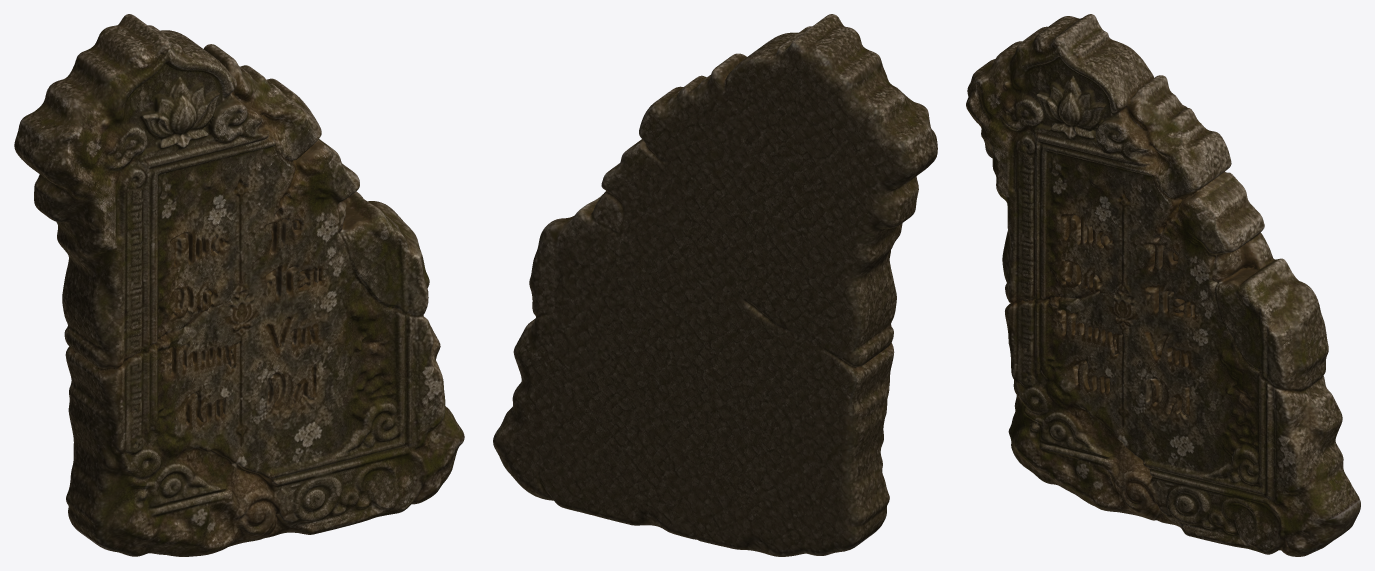
The model's file is Meshy_AI_Ancient_Cracked_Tombs_1019103022_texture.fbx.
The picture shows the model from 3 angles, left to right: view 1: azimuth 30°, elevation 25°; view 2: azimuth 150°, elevation 25°; view 3: azimuth 330°, elevation 25°; orthographic projection. The views are drawn at different scales.
Visible parts, largest first — view 1: Mesh_0; view 2: Mesh_0; view 3: Mesh_0.
Boxes of the visible parts, bbox=[...] form: Mesh_0: bbox=[14, 14, 464, 556]; Mesh_0: bbox=[493, 14, 937, 556]; Mesh_0: bbox=[966, 14, 1360, 556].
Size of the model in its own units: 161 by 190 by 28.95.
1 material, 1 textured.
